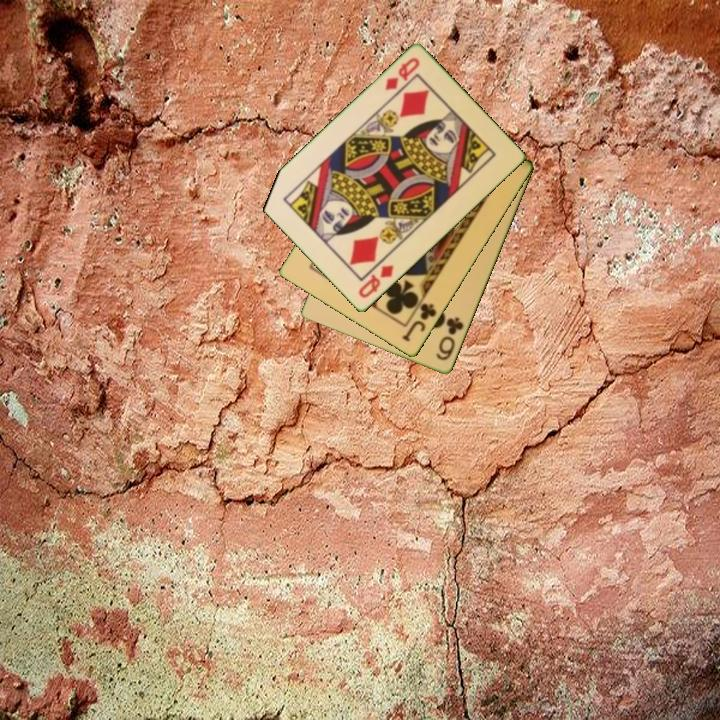6c: (433, 314, 467, 364)
Jc: (399, 300, 440, 345)
Qd: (355, 261, 397, 302), (381, 54, 423, 94)
